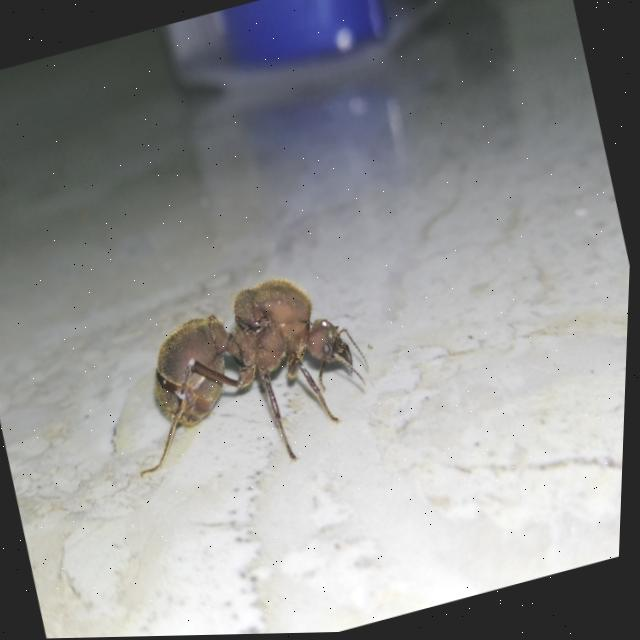Alive-Female-Dealate: (103, 258, 393, 504)
